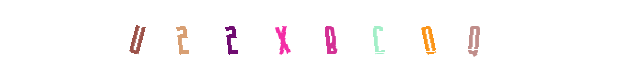2: (191, 0, 271, 80), (270, 0, 350, 80)
B: (280, 0, 360, 80)
C: (305, 0, 385, 80)
O: (337, 0, 417, 80)
Q: (388, 0, 468, 80)
U: (97, 0, 177, 80)
X: (273, 0, 353, 80)
